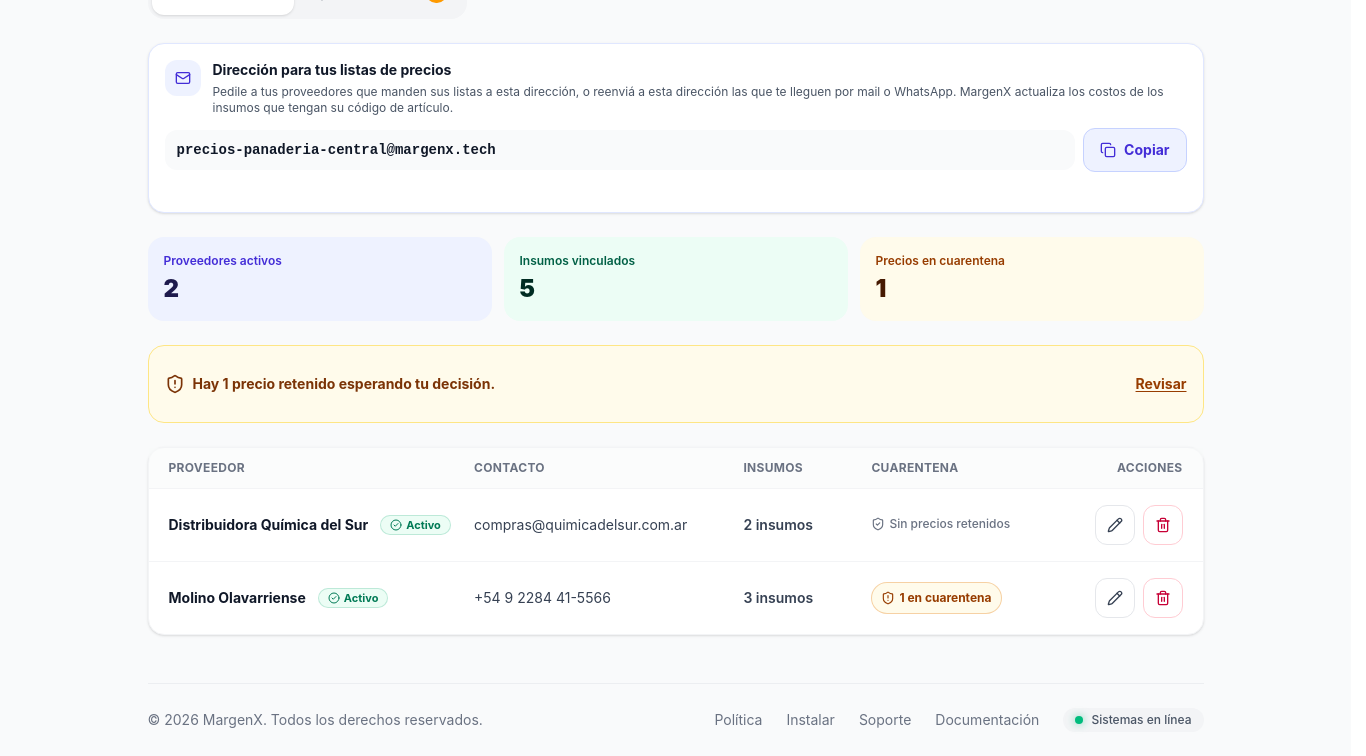
Test: SuppliersPageContent › la edición actualiza la fila y conserva sus contadores
(page scrolled)
Expected: the list named "Proveedores" is shown, [148,489,1202,634]
Step 1. Click the button named "Editar Molino Olavarriense" → (1114, 598), box [1094,578,1134,618]
(page scrolled)
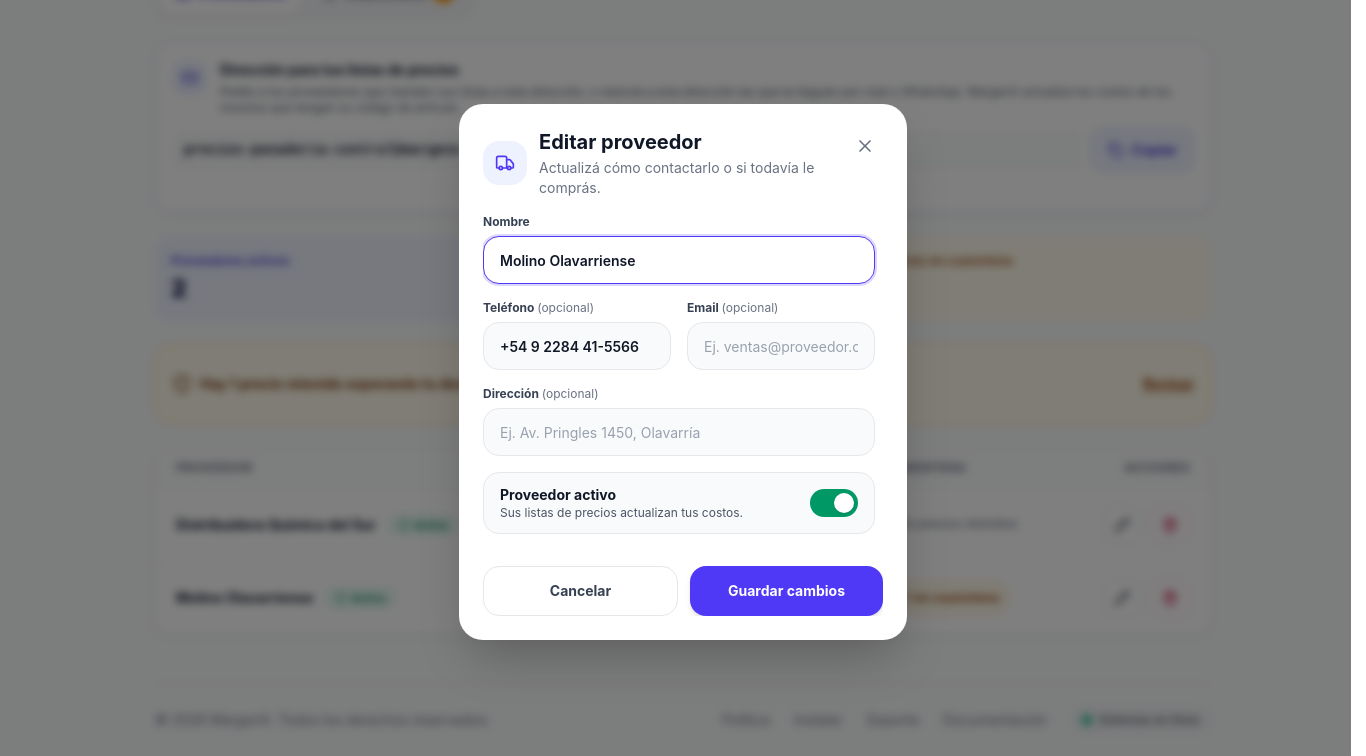
Step 2. Replace the text in the field labelled "Nombre" with "Molino Olavarriense S.A." → (679, 260), box [483,236,875,284]
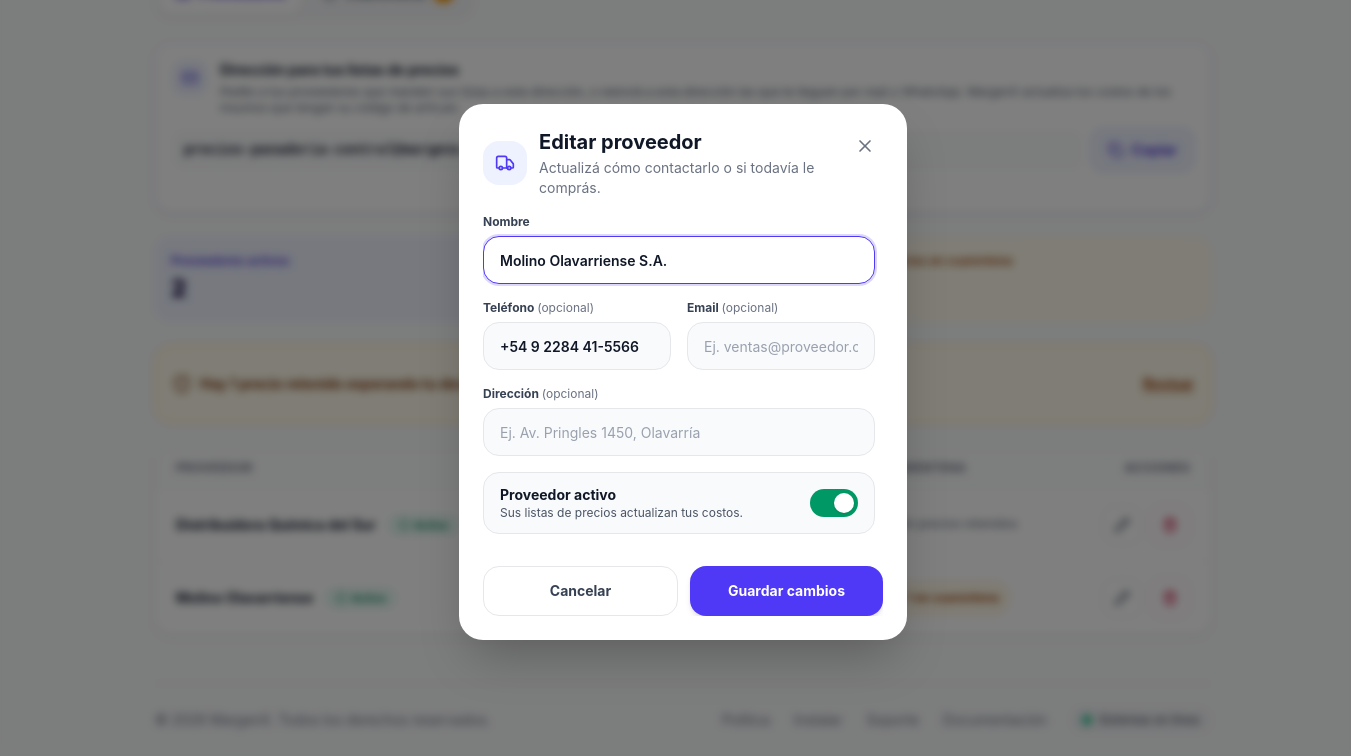
Step 3. Click the button "Guardar cambios" → (786, 591), box [690,566,883,616]
(page scrolled)
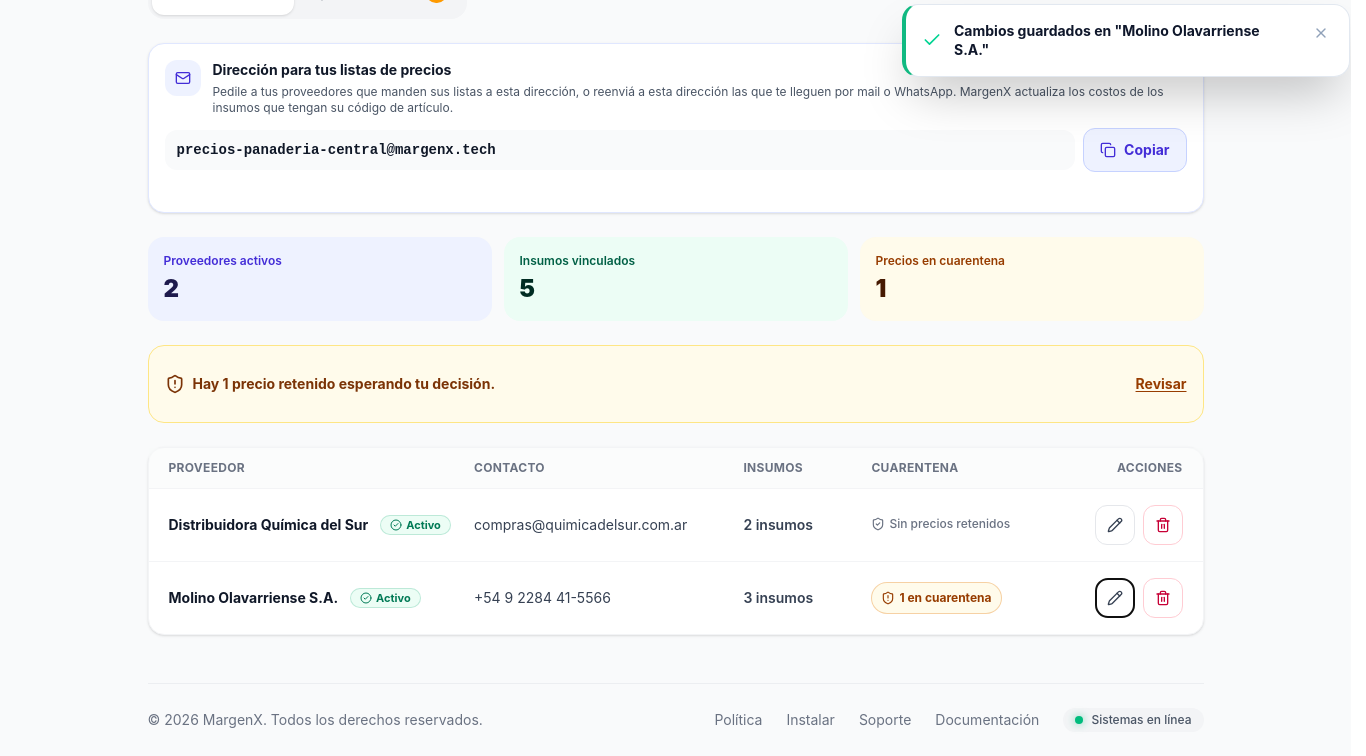
Expected: the text "3 insumos" is shown, [743,589,813,606]
Expected: the text "Cambios guardados en \"Molino Olavarriense S.A.\"" is shown, [954,21,1295,60]
